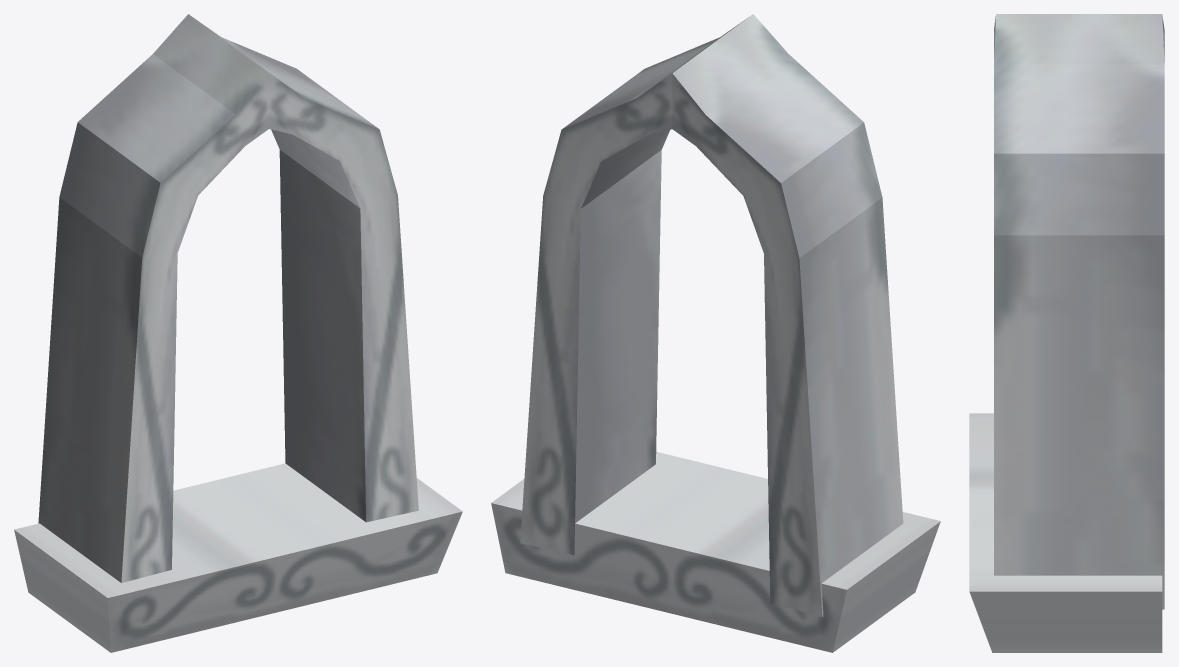
Rendered from e_throne_wall_window_frame.fbx.
3 renders of one model, left to right at view 1: azimuth 30°, elevation 25°; view 2: azimuth 150°, elevation 25°; view 3: azimuth 270°, elevation 25°, orthographic. The views are drawn at different scales.
Visible parts, largest first — view 1: polySurface1542; view 2: polySurface1542; view 3: polySurface1542.
Part boxes in pixels (x1=…): polySurface1542: x1=14, y1=14, x2=462, y2=652; polySurface1542: x1=491, y1=14, x2=940, y2=652; polySurface1542: x1=969, y1=14, x2=1164, y2=652.
Bounding box in the file's own units: 1.39 × 2.02 × 0.6421.
